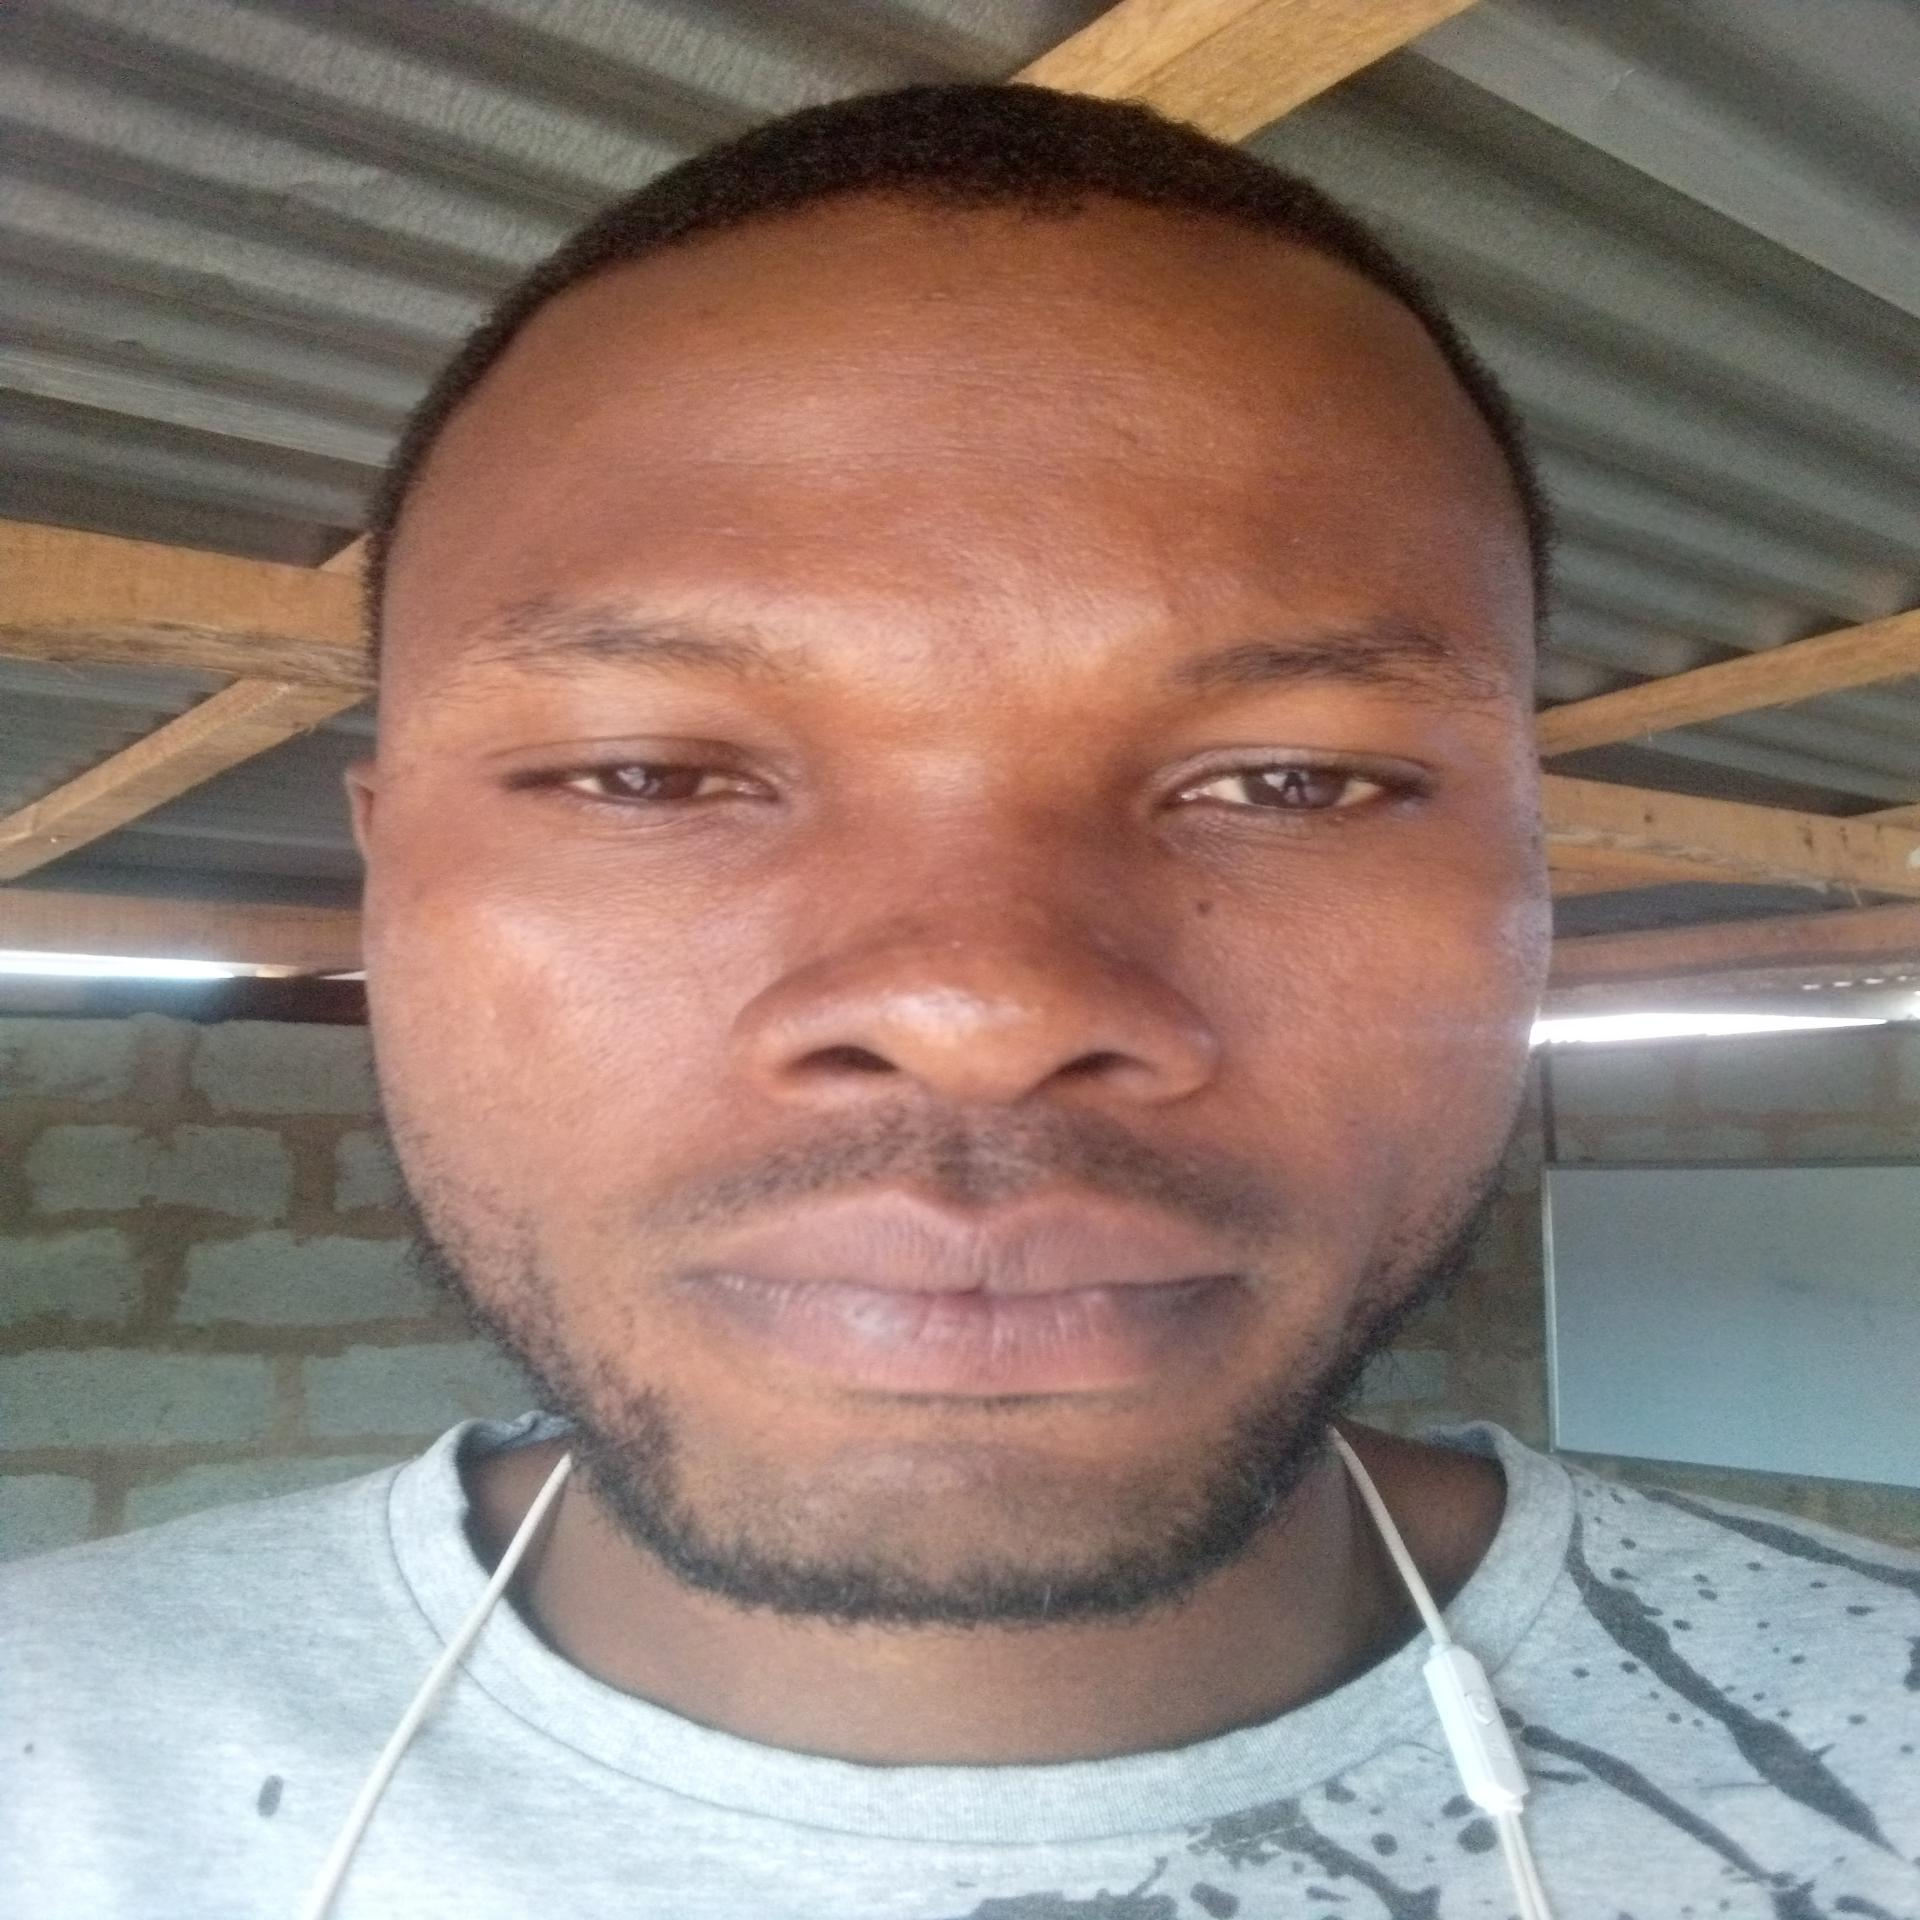Blackhead: (865, 891, 1071, 1023)
Englarged Pores: (1189, 890, 1389, 1041), (554, 881, 728, 1039), (526, 1030, 649, 1124), (916, 594, 1027, 666)
Wrinkles: (642, 508, 1218, 578), (670, 438, 1225, 482), (756, 346, 1153, 397)
